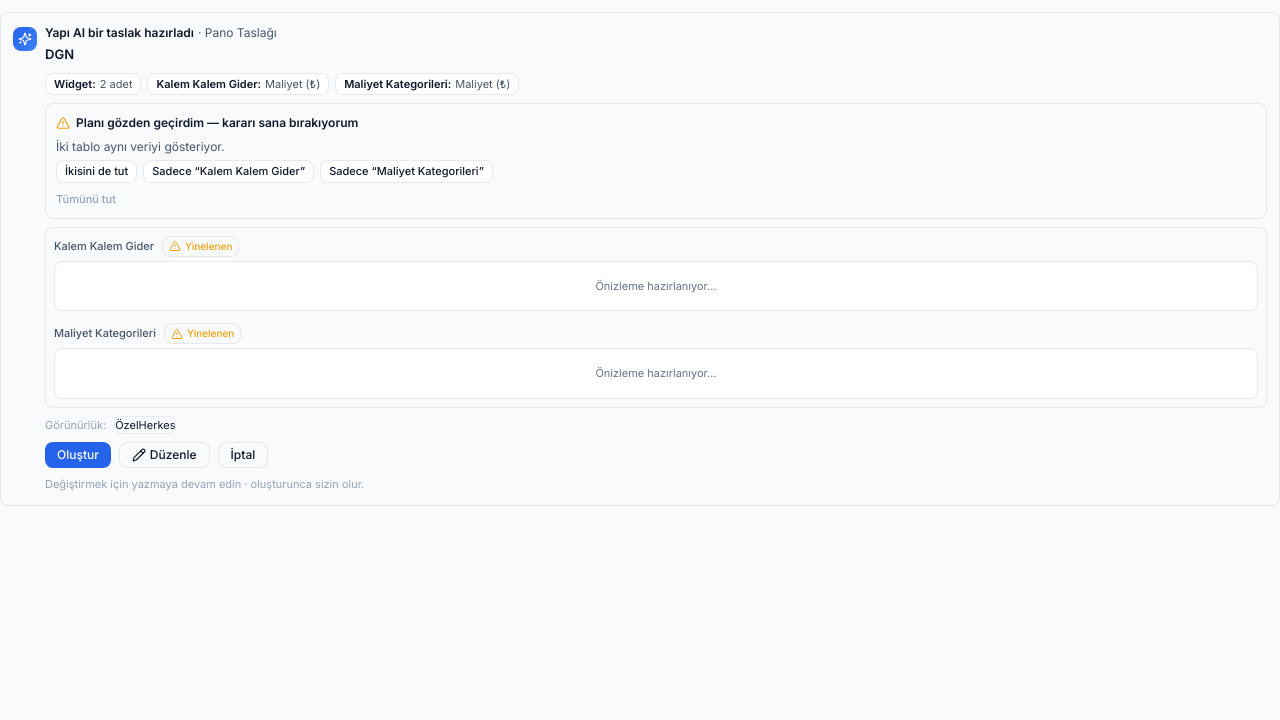
Test: CR-056 — structural critique (duplicate) + trim › "Tümünü tut" dismisses findings and keeps all widgets
Later steps or results of the test are not shown.
Step 1. Click the button "Tümünü tut" → (86, 199), box [56,190,116,207]
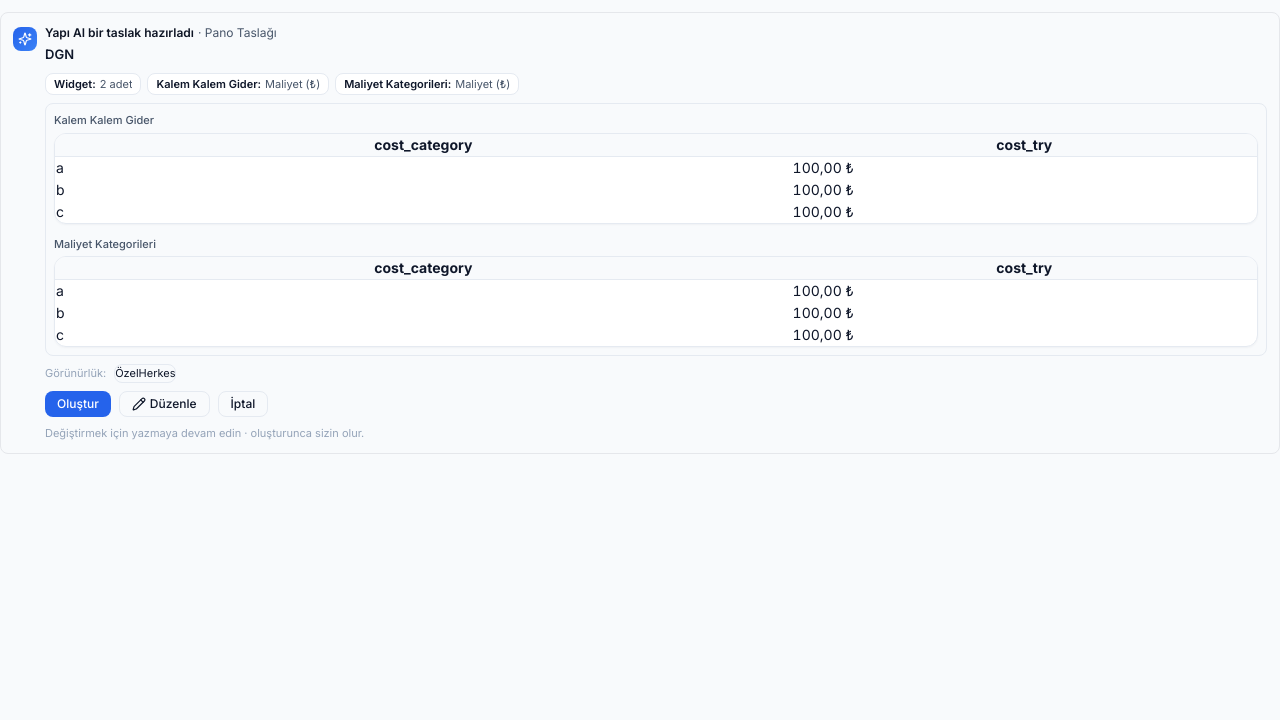
Check: the text "İki tablo aynı veriyi gösteriyor." is gone
